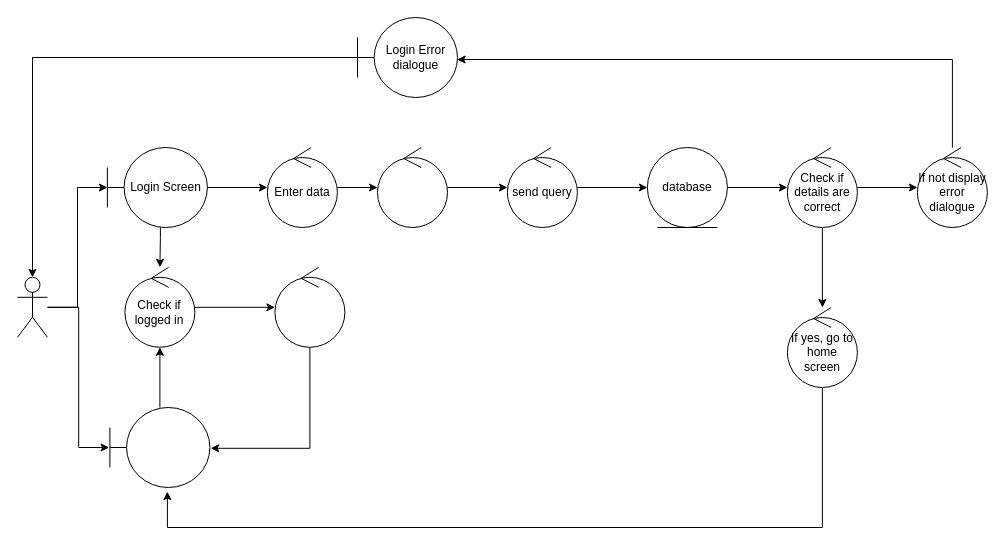
The diagram is 1005 pixels wide and 553 high, and some of its shapes have lost their labels. Here are the shapes that lost their labels. From the top down, the centre of each, then its label:
At (x=412, y=187): "validate entered data".
At (x=32, y=306): "User".
At (x=309, y=306): "if yes, return to home screen".
At (x=159, y=447): "Home Screen".
